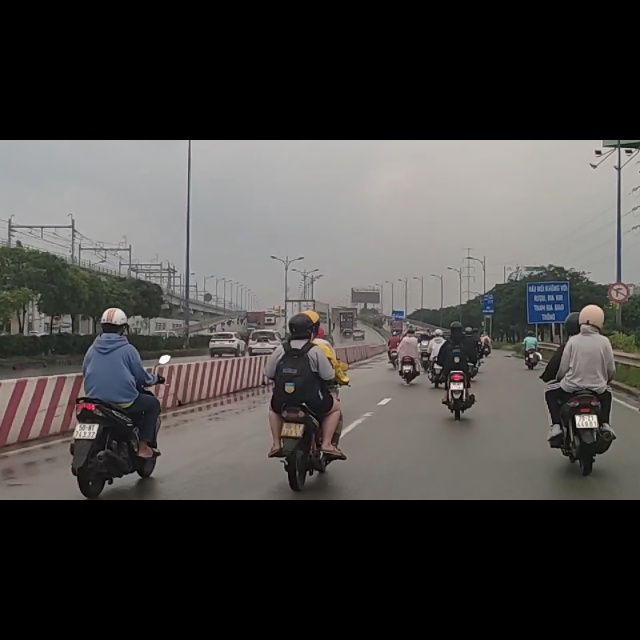bien_chi_dan: (608, 254, 630, 289)
